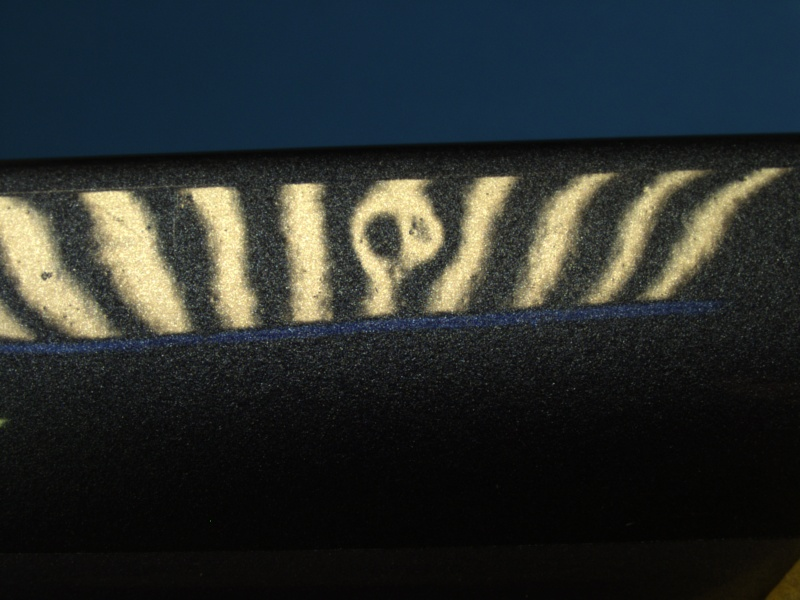bad: (346, 190, 451, 281)
